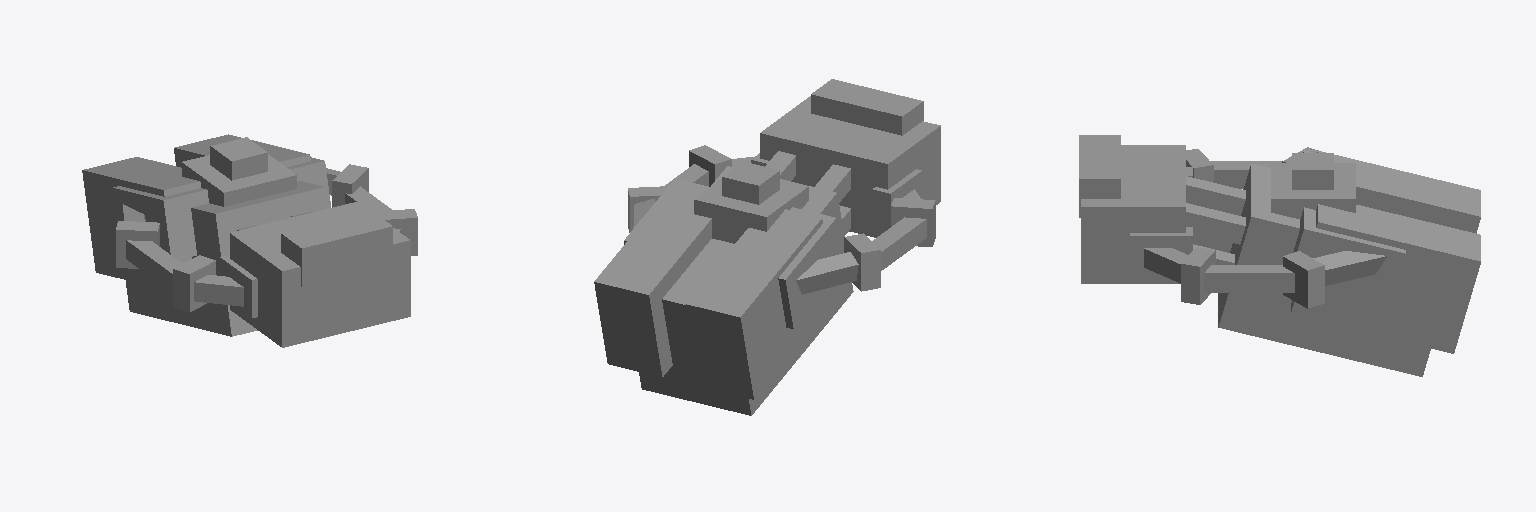
File: powerFistLeft.obj
3 views of the same model, side by side, from view 1: azimuth 30°, elevation 25°; view 2: azimuth 150°, elevation 25°; view 3: azimuth 270°, elevation 25° (orthographic).
Visible parts, largest first — view 1: palm, mainarm, fingerguard, armorleft, supportbaseleft, crystalholder, crystal, supportleft3, supportleft4, armorright, supportleft5, supportleft2 (+5 smaller); view 2: armorleft, armorright, palm, mainarm, fingerguard, crystalholder, supportbaseleft, crystal, supportleft1, supportleft3, supportleft2, supportleftfront (+5 smaller); view 3: armorright, mainarm, palm, armorleft, supportbaseright, crystalholder, fingerguard, supportright3, supportright2, wristtopright, supportright1, wristtopleft (+6 smaller).
Part boxes in pixels (bbox=[...]): palm: bbox=[230, 202, 410, 347]; mainarm: bbox=[126, 181, 327, 336]; fingerguard: bbox=[281, 211, 392, 286]; armorleft: bbox=[82, 157, 200, 290]; supportbaseleft: bbox=[112, 186, 208, 259]; crystalholder: bbox=[182, 154, 296, 206]; crystal: bbox=[210, 137, 267, 180]; supportleft3: bbox=[126, 240, 182, 292]; supportleft4: bbox=[173, 255, 215, 312]; armorright: bbox=[174, 134, 310, 167]; supportleft5: bbox=[194, 275, 243, 306]; supportleft2: bbox=[116, 221, 159, 268]; armorleft: bbox=[686, 209, 835, 399]; armorright: bbox=[594, 182, 711, 377]; palm: bbox=[760, 96, 940, 237]; mainarm: bbox=[639, 166, 853, 415]; fingerguard: bbox=[811, 79, 923, 135]; crystalholder: bbox=[694, 179, 808, 243]; supportbaseleft: bbox=[778, 207, 841, 328]; crystal: bbox=[722, 162, 779, 204]; supportleft1: bbox=[796, 252, 858, 294]; supportleft3: bbox=[872, 217, 926, 270]; supportleft2: bbox=[844, 233, 880, 291]; supportleftfront: bbox=[872, 169, 921, 230]; armorright: bbox=[1291, 204, 1480, 353]; mainarm: bbox=[1218, 163, 1430, 376]; palm: bbox=[1081, 145, 1185, 283]; armorleft: bbox=[1317, 151, 1480, 233]; supportbaseright: bbox=[1293, 207, 1405, 308]; crystalholder: bbox=[1271, 163, 1355, 218]; fingerguard: bbox=[1079, 135, 1120, 217]; supportright3: bbox=[1204, 265, 1294, 292]; supportright2: bbox=[1283, 251, 1324, 308]; wristtopright: bbox=[1186, 203, 1245, 244]; supportright1: bbox=[1313, 251, 1386, 285]; wristtopleft: bbox=[1186, 176, 1245, 215].
Bounding box in the file's own units: 0.8635 × 0.6166 × 1.19.